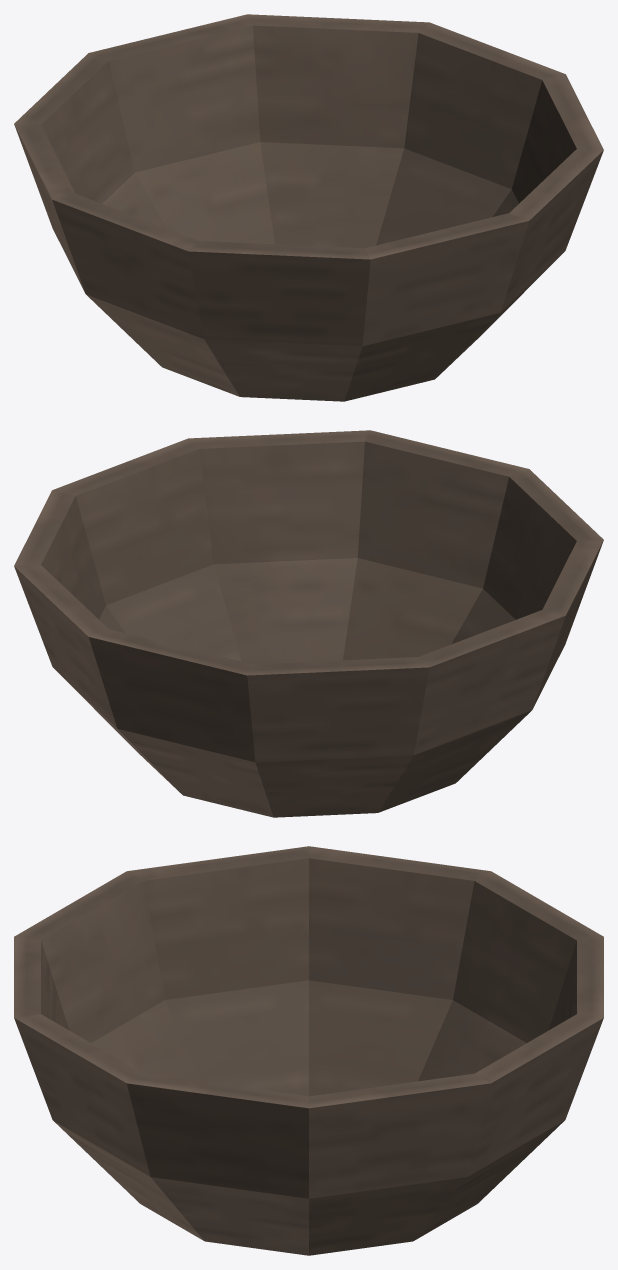
The model's file is woodenBowl.fbx.
3 renders of one model, top to bottom at view 1: azimuth 30°, elevation 25°; view 2: azimuth 150°, elevation 25°; view 3: azimuth 270°, elevation 25°, orthographic. The views are drawn at different scales.
Parts seen in each view (by area): view 1: pSphere9; view 2: pSphere9; view 3: pSphere9.
Part boxes in pixels (box(x1,y1,x2,y2)): pSphere9: box(14, 14, 603, 401); pSphere9: box(14, 430, 603, 817); pSphere9: box(14, 846, 603, 1255).
Bounding box in the file's own units: 144 × 52.29 × 137.
